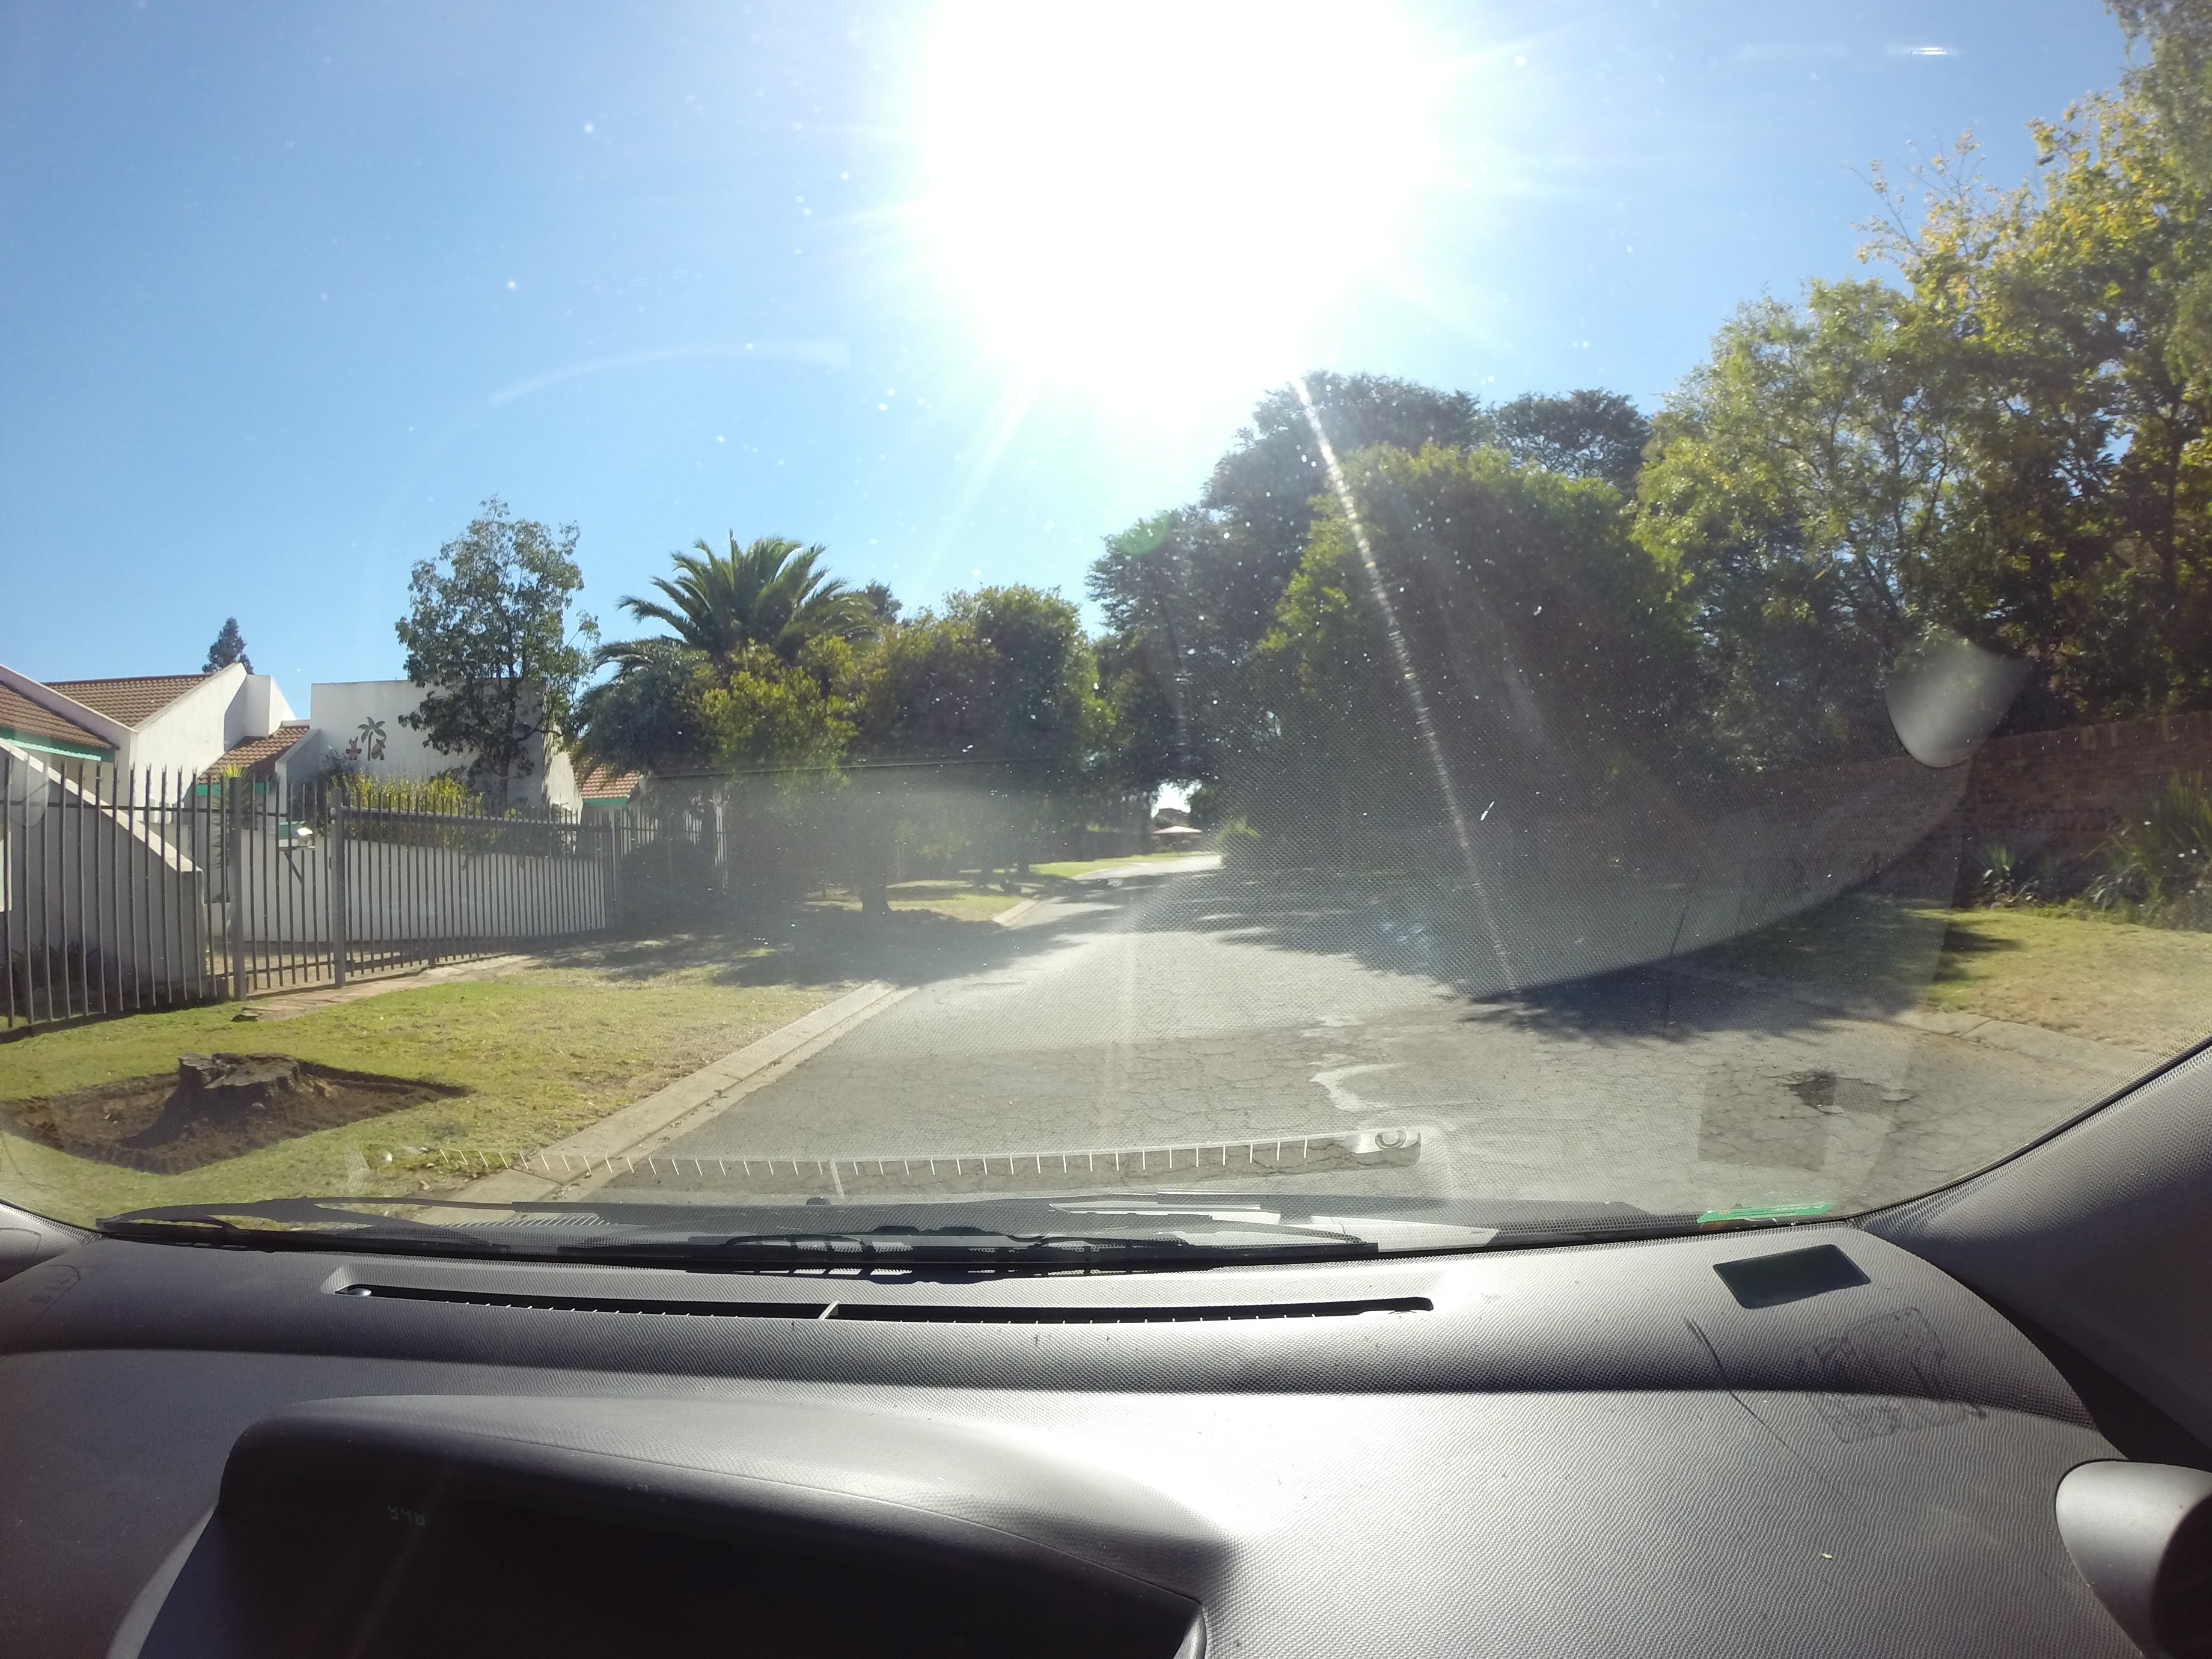pothole: (1749, 1037, 1963, 1143)
